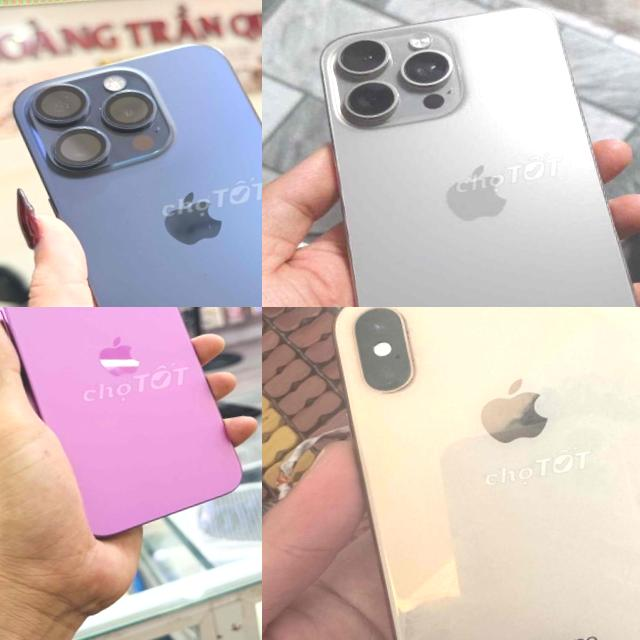scratch: (393, 308, 427, 376), (363, 307, 392, 314)
